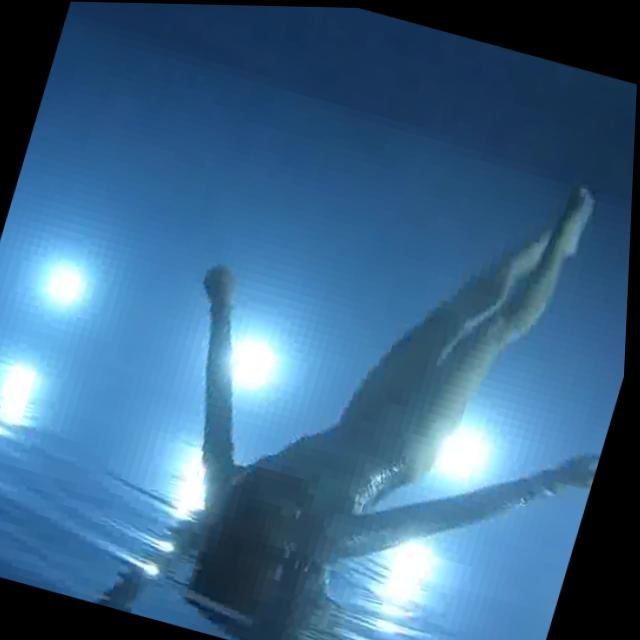human: (112, 67, 638, 640)
